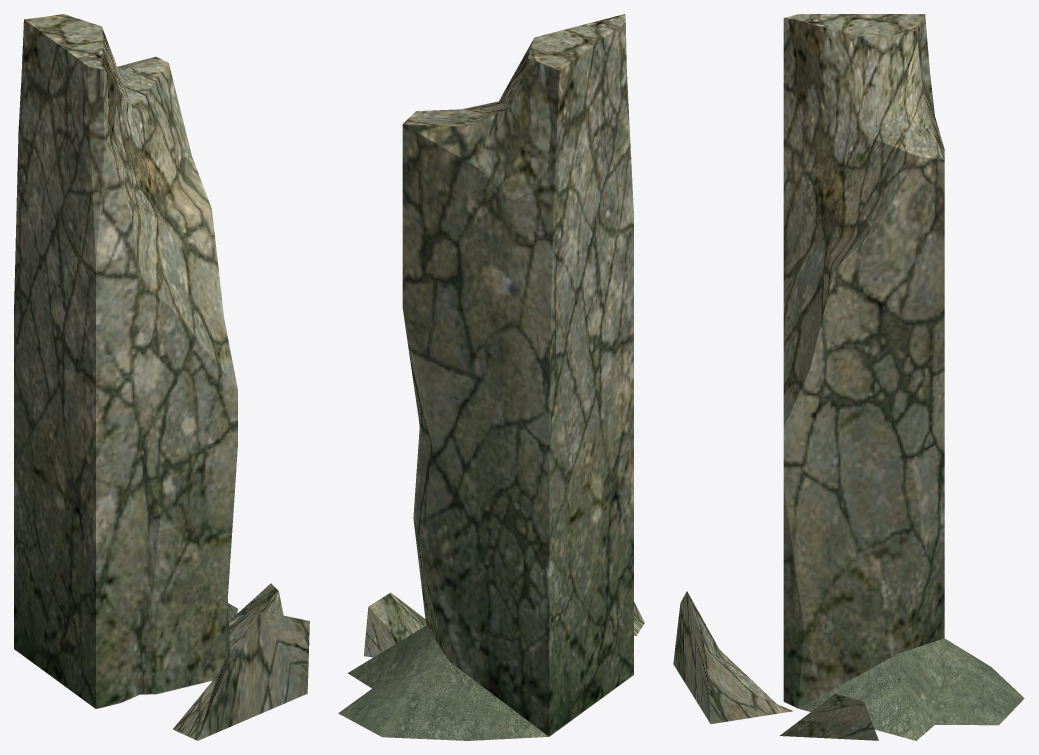
Rendered from thm_nboo_gungan_pillar_ruined_s01_l0.fbx.
3 renders of one model, left to right at view 1: azimuth 30°, elevation 25°; view 2: azimuth 150°, elevation 25°; view 3: azimuth 270°, elevation 25°, orthographic. The views are drawn at different scales.
Visible parts, largest first — view 1: mesh_node; view 2: mesh_node; view 3: mesh_node.
Part boxes in pixels (x1=…): mesh_node: x1=14, y1=14, x2=309, y2=740; mesh_node: x1=338, y1=14, x2=644, y2=740; mesh_node: x1=673, y1=14, x2=1024, y2=740.
Size of the model in its own units: 1.52 by 4.3 by 2.18.
